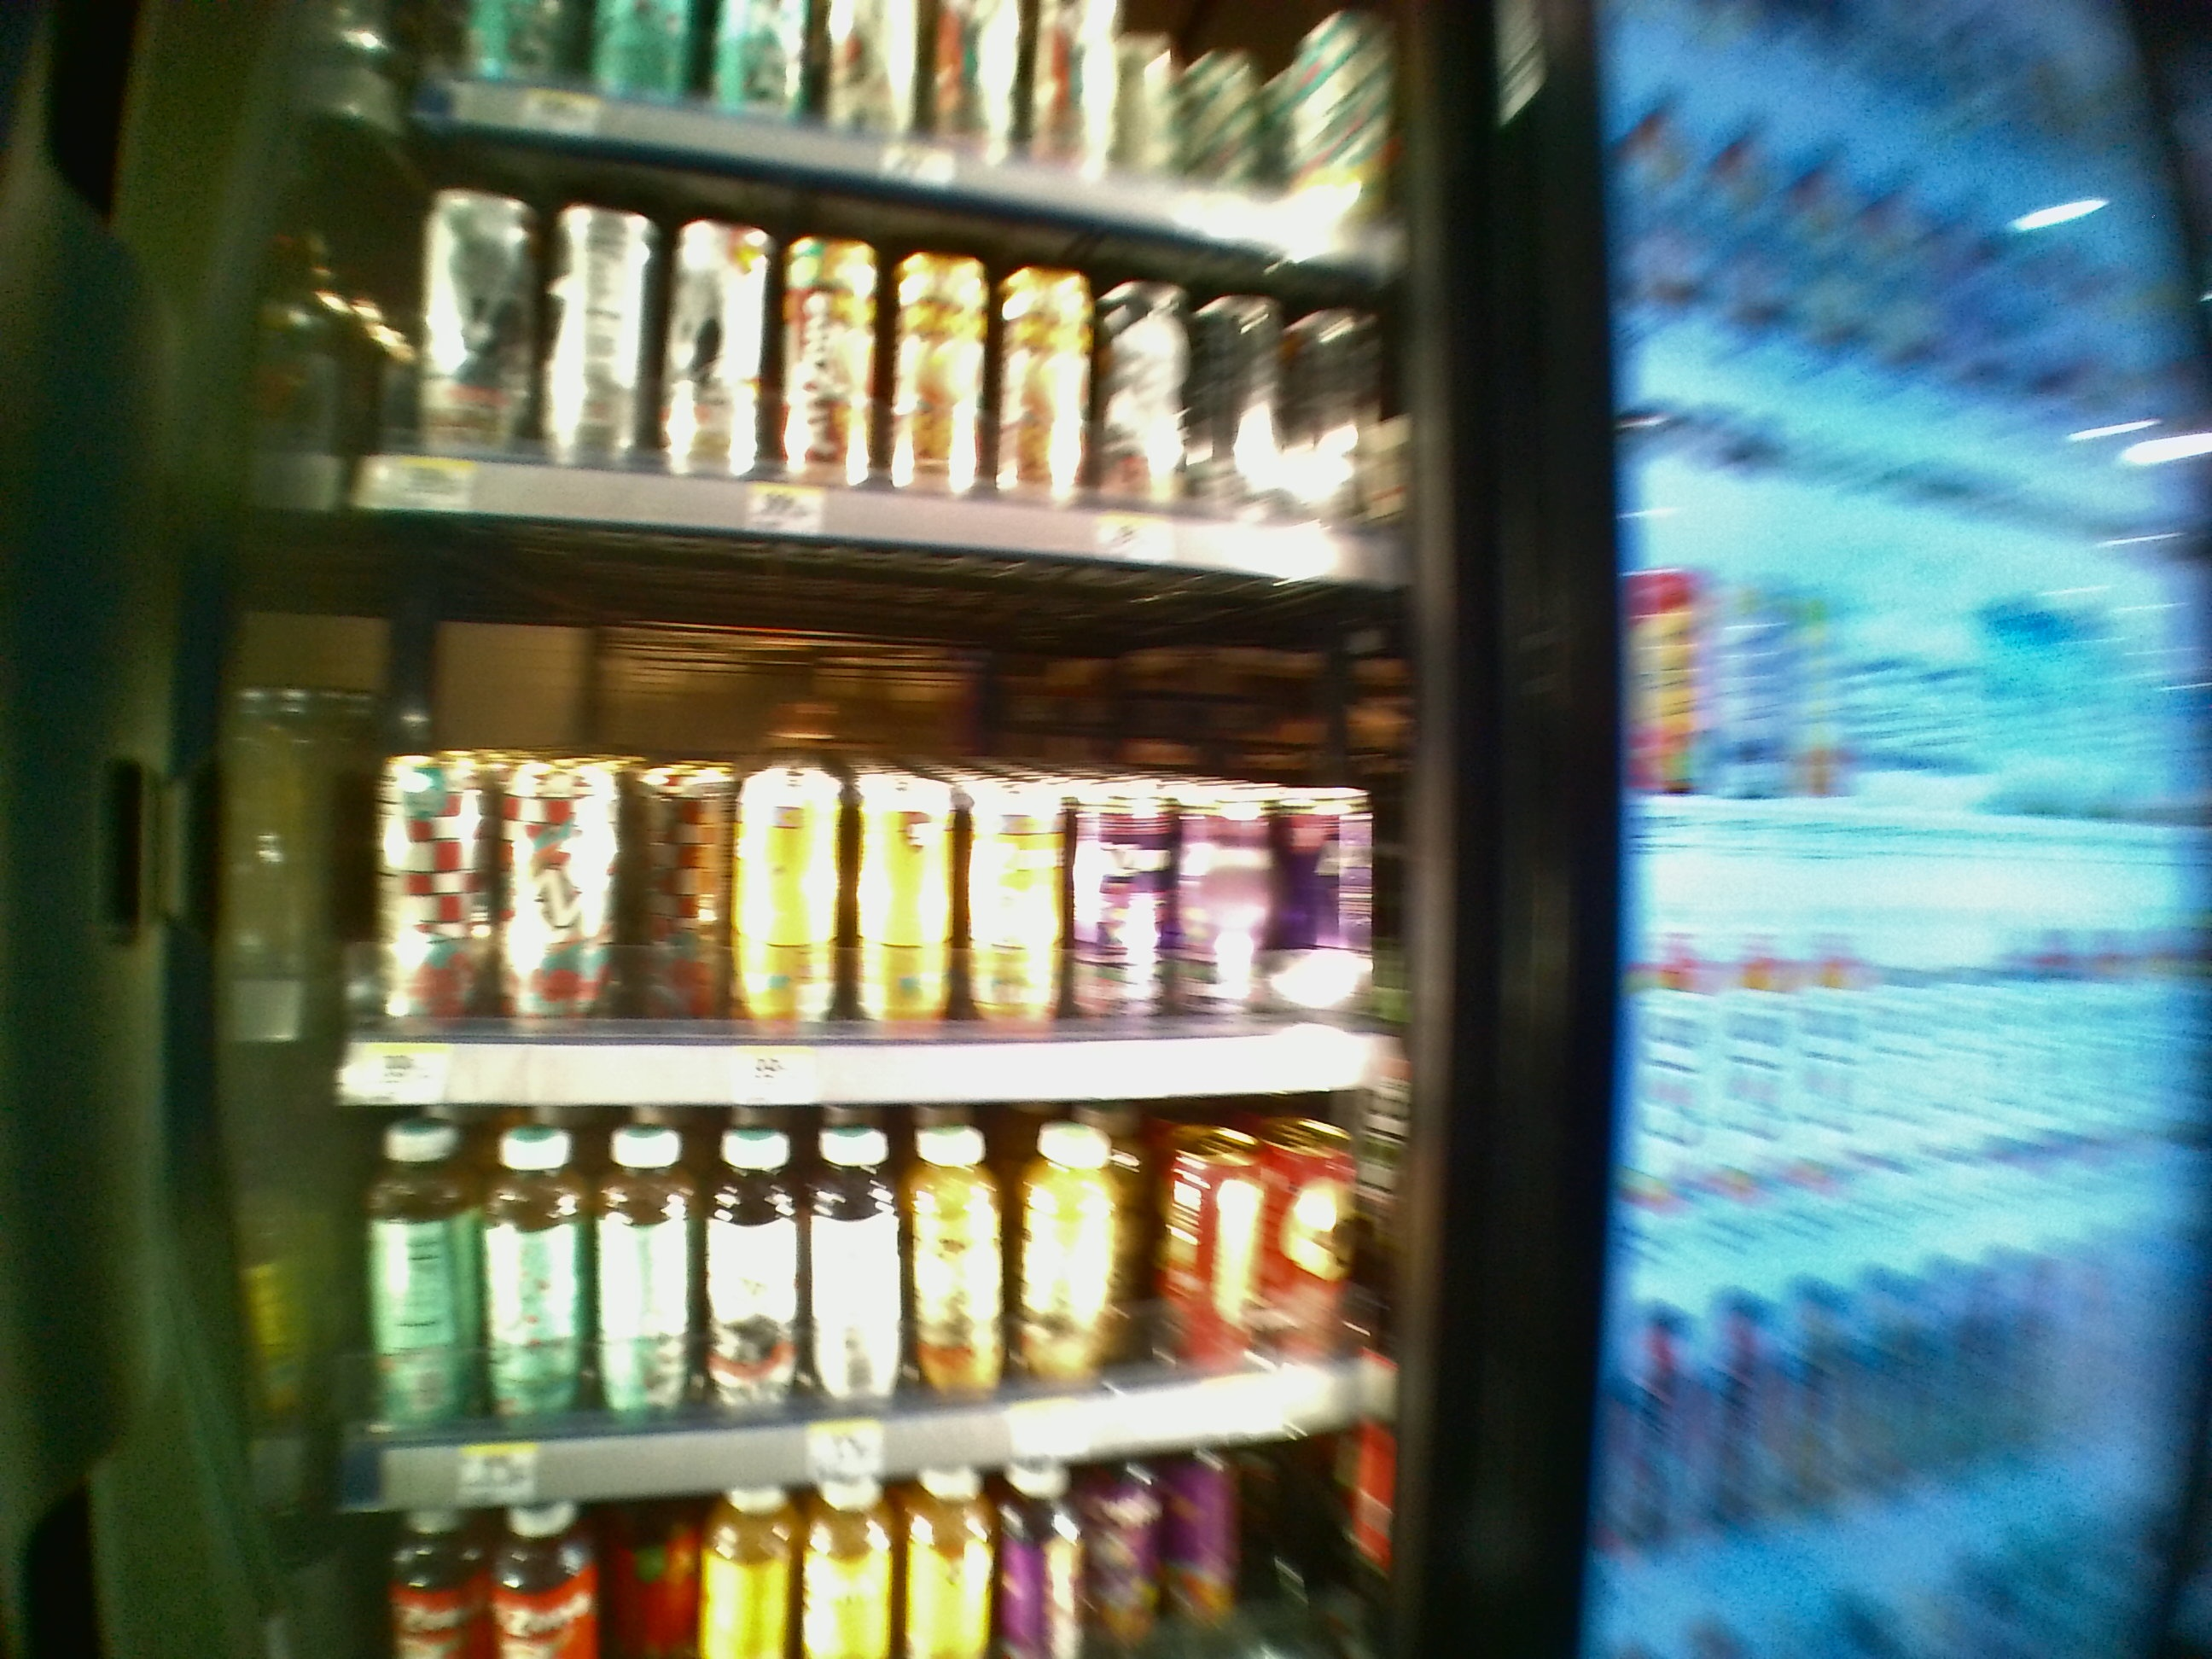shelf: (336, 526, 1400, 1098), (341, 1110, 1404, 1513)
